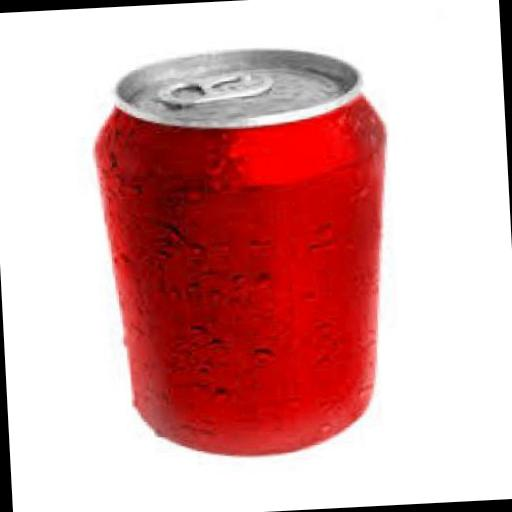metal: (86, 39, 400, 462)
